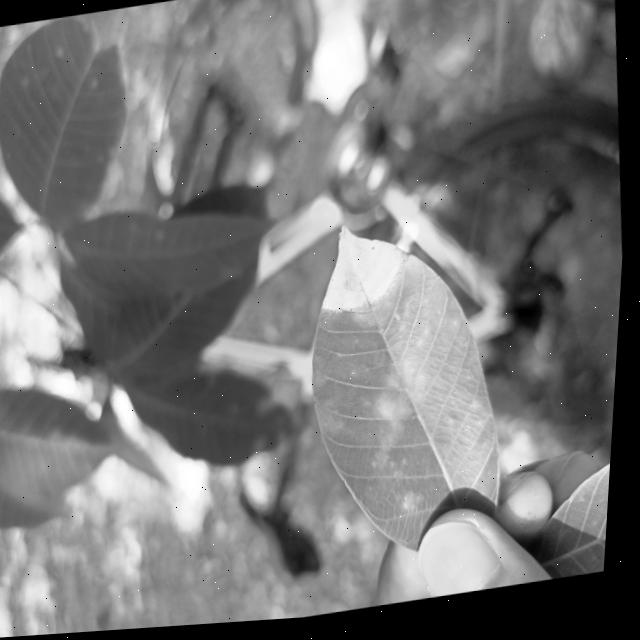Leaf-Blight: (314, 221, 417, 324)
